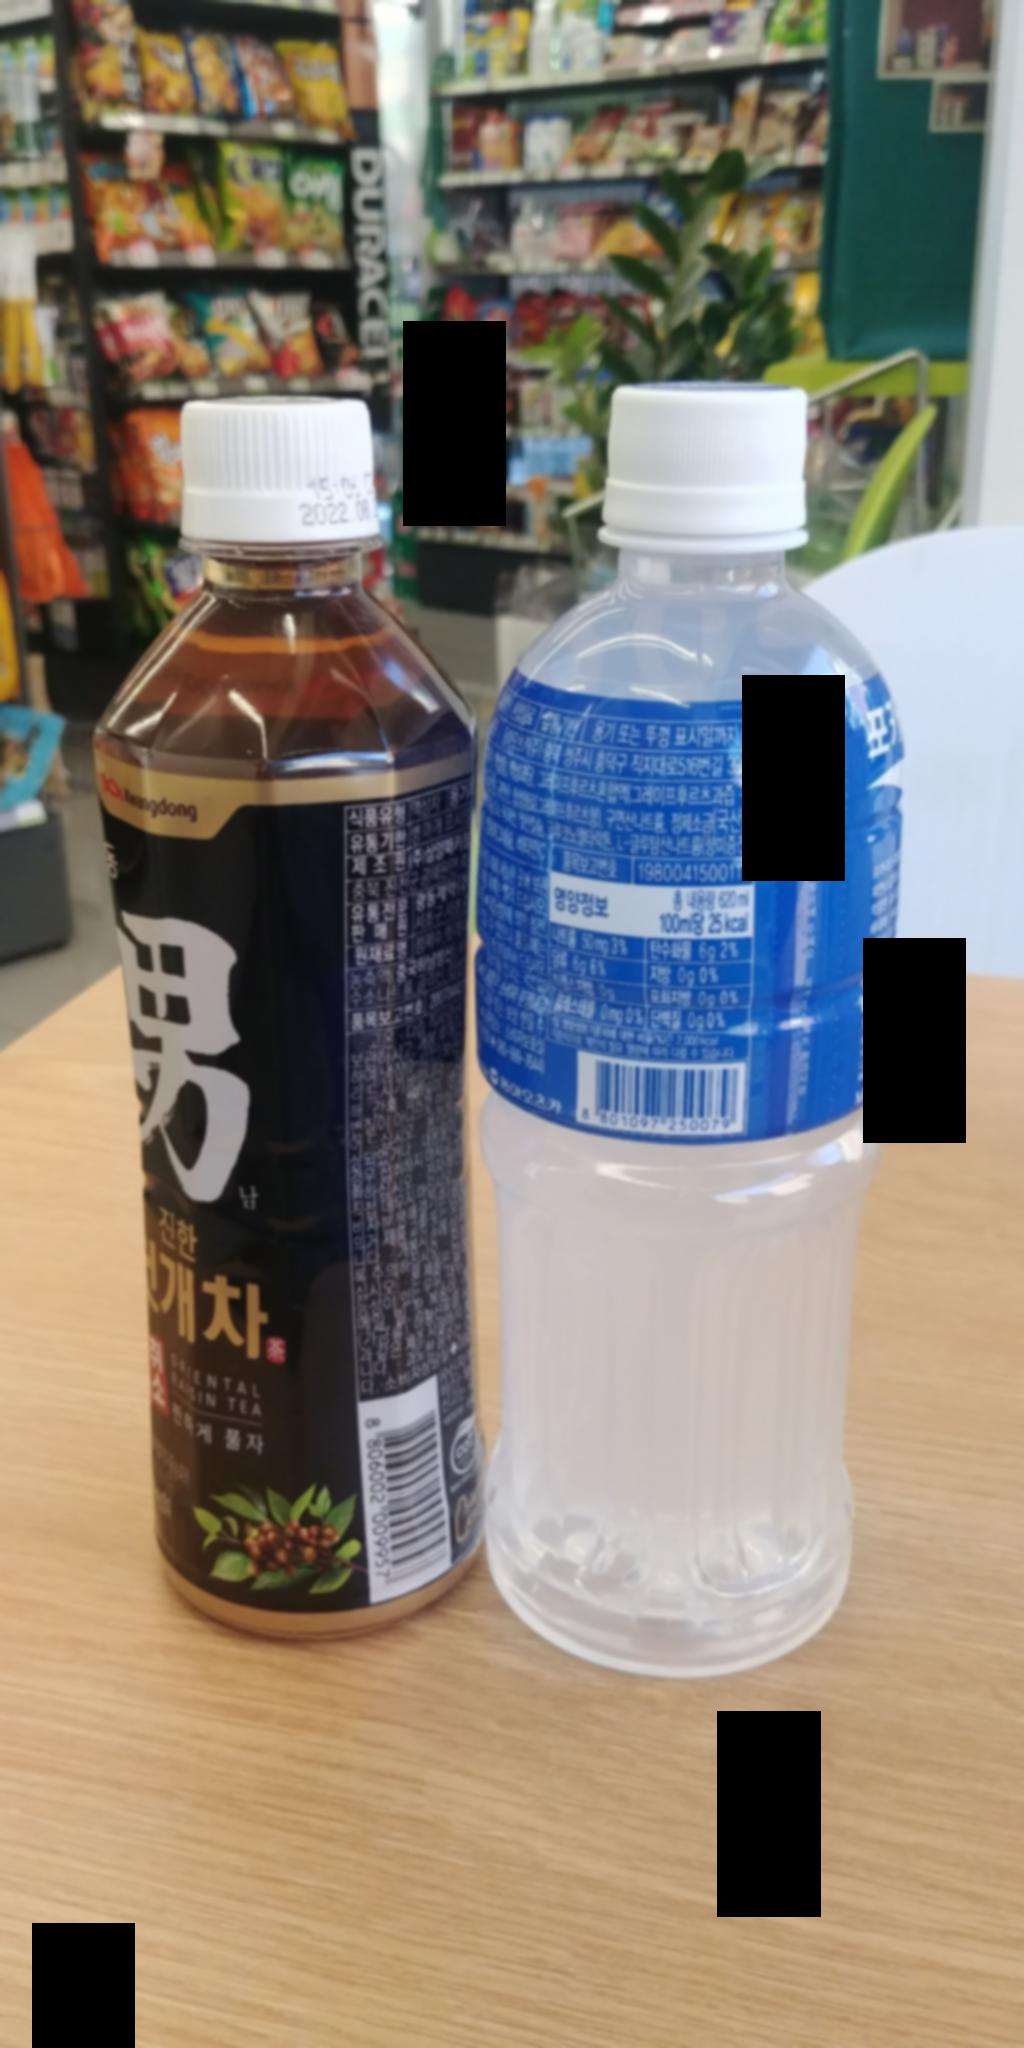heotgaecha: (68, 368, 503, 1676)
pocarisweat: (457, 345, 927, 1685)
